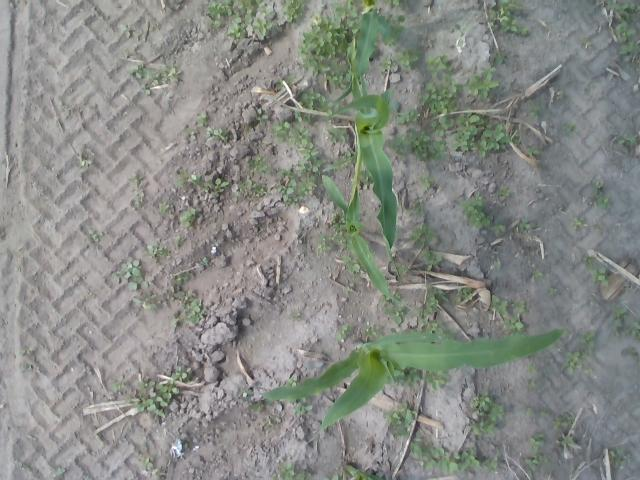Maize: (242, 328, 566, 448), (325, 27, 400, 276), (322, 120, 414, 316), (332, 0, 391, 104), (344, 465, 386, 480)
Weeds: (298, 12, 348, 88), (122, 366, 192, 419), (452, 109, 520, 157), (410, 441, 499, 473), (606, 0, 640, 62), (392, 130, 448, 162), (272, 168, 318, 206), (272, 122, 319, 159), (468, 390, 505, 436), (422, 77, 462, 118), (488, 1, 528, 34), (110, 259, 150, 290), (468, 65, 500, 99), (460, 192, 490, 226), (385, 400, 413, 436), (204, 0, 232, 27), (182, 290, 204, 324), (426, 55, 453, 80), (233, 0, 272, 17), (409, 222, 436, 244), (592, 180, 612, 208), (295, 156, 323, 176), (384, 15, 404, 42), (422, 320, 452, 338), (145, 241, 169, 262), (424, 371, 449, 391), (175, 170, 202, 188), (610, 445, 632, 467), (204, 178, 228, 198), (422, 248, 442, 271), (333, 228, 352, 252), (333, 0, 358, 18), (282, 1, 302, 22), (300, 88, 319, 110), (132, 294, 158, 310), (404, 198, 424, 217), (252, 17, 272, 36), (328, 126, 348, 145), (248, 154, 268, 173), (400, 370, 419, 390), (612, 307, 630, 328), (591, 267, 609, 288), (418, 296, 436, 317), (399, 48, 421, 65), (500, 314, 524, 329), (178, 208, 196, 228), (396, 110, 418, 126), (431, 118, 456, 132), (489, 295, 507, 314), (385, 305, 403, 324), (316, 236, 334, 255), (317, 94, 334, 114), (580, 331, 598, 349), (554, 412, 572, 430), (276, 461, 294, 479), (294, 398, 312, 416), (564, 352, 580, 372), (453, 20, 473, 36), (206, 126, 227, 140), (228, 18, 244, 36), (166, 64, 182, 82), (344, 256, 360, 274), (512, 300, 532, 314), (456, 288, 473, 304), (626, 320, 640, 338), (618, 134, 638, 146), (237, 176, 254, 190), (128, 64, 146, 77), (87, 229, 105, 242), (420, 176, 434, 192), (530, 434, 544, 450), (111, 373, 123, 391), (524, 456, 538, 471), (622, 346, 639, 358), (338, 324, 352, 338), (121, 25, 135, 38), (142, 458, 154, 473), (380, 56, 392, 70), (363, 327, 378, 338), (344, 278, 354, 294), (166, 286, 176, 302), (130, 169, 142, 182), (196, 114, 210, 125), (560, 436, 574, 447), (296, 470, 311, 480), (570, 217, 582, 229), (79, 155, 92, 166), (256, 108, 266, 122), (252, 183, 266, 193), (518, 218, 530, 229), (490, 52, 502, 63), (584, 255, 594, 268), (176, 274, 190, 283), (18, 345, 32, 354), (546, 286, 558, 296), (286, 376, 298, 386), (491, 225, 502, 235), (286, 74, 297, 84), (158, 202, 168, 213), (294, 110, 303, 122), (498, 190, 511, 198), (140, 84, 150, 94), (290, 309, 300, 319), (398, 264, 409, 273), (528, 107, 540, 115), (172, 316, 180, 328), (276, 79, 284, 91), (250, 402, 262, 410), (322, 475, 340, 480), (533, 270, 544, 278), (537, 455, 549, 462), (528, 380, 538, 388), (528, 146, 538, 154), (528, 363, 536, 373), (493, 260, 501, 270), (582, 38, 592, 46), (383, 0, 399, 5), (242, 122, 250, 131), (140, 443, 148, 452), (20, 363, 30, 370), (182, 127, 193, 133), (582, 350, 590, 358), (145, 71, 153, 79), (566, 124, 576, 130), (268, 417, 275, 425), (56, 470, 64, 477), (540, 412, 550, 417), (202, 256, 208, 264), (588, 82, 595, 88), (525, 407, 531, 414), (584, 368, 592, 373), (558, 90, 562, 98), (615, 332, 619, 338), (176, 236, 180, 242)
